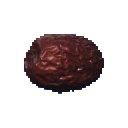gd: (16, 19, 110, 106)
